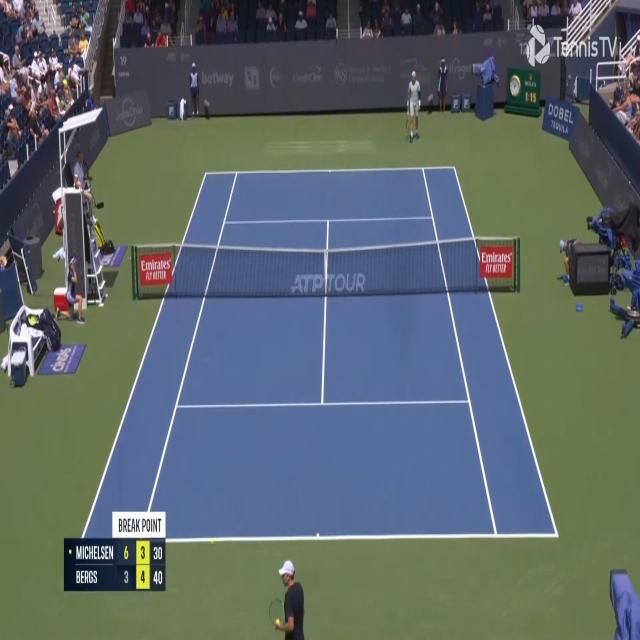tennis-player: (267, 558, 306, 640), (404, 69, 422, 143)
